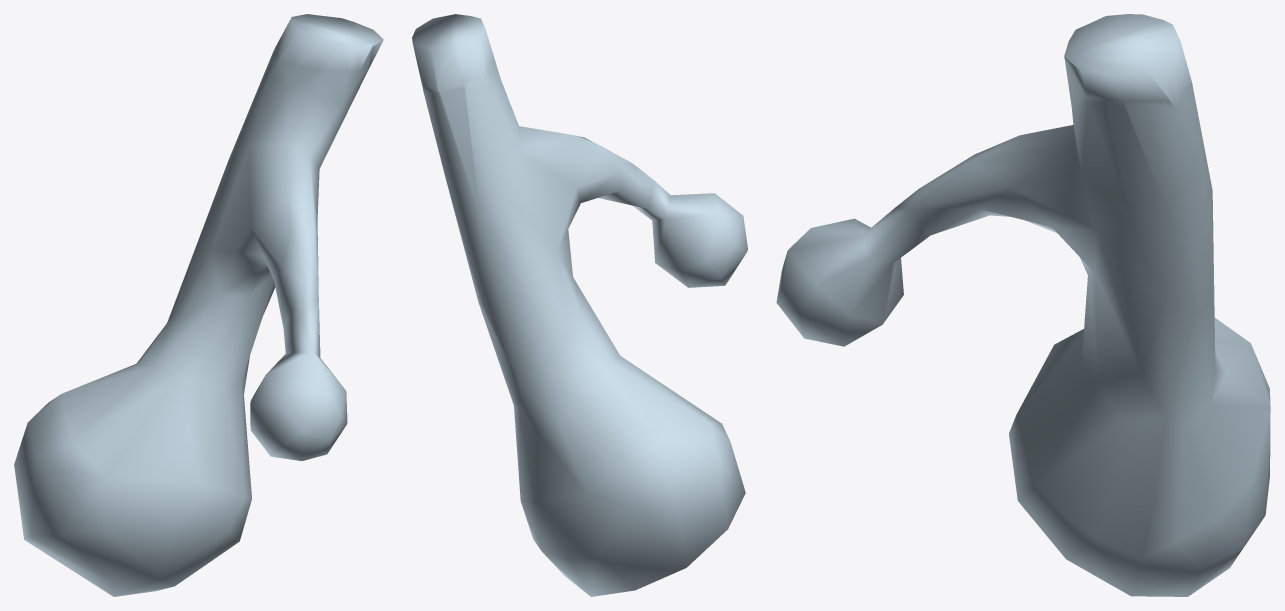
File: Treesplit.fbx
3 views of the same model, side by side, from view 1: azimuth 30°, elevation 25°; view 2: azimuth 150°, elevation 25°; view 3: azimuth 270°, elevation 25° (orthographic). The views are drawn at different scales.
Visible parts, largest first — view 1: Treespilt; view 2: Treespilt; view 3: Treespilt.
Part boxes in pixels (<box>): Treespilt: <box>14,14,383,596</box>; Treespilt: <box>412,14,747,596</box>; Treespilt: <box>776,14,1270,596</box>.
Size of the model in its own units: 1.76 by 2.64 by 1.8.
